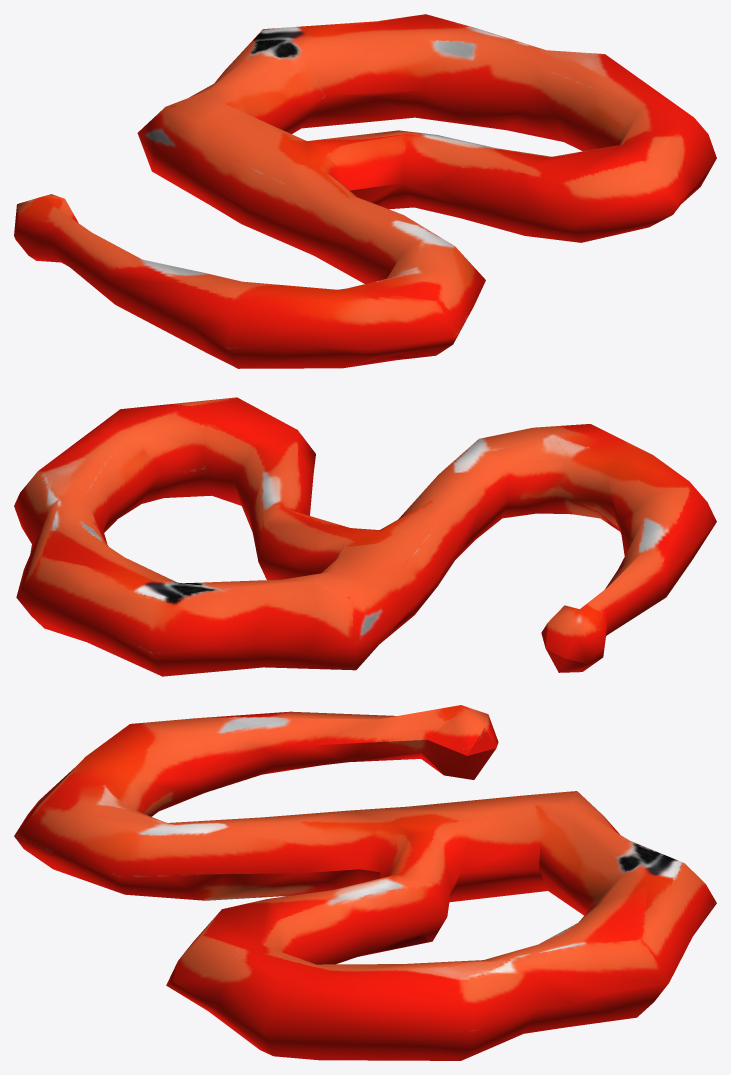
File: shoggoth-slime.glb
3 renders of one model, top to bottom at view 1: azimuth 30°, elevation 25°; view 2: azimuth 150°, elevation 25°; view 3: azimuth 270°, elevation 25°, orthographic. The views are drawn at different scales.
Parts seen in each view (by area): view 1: geometry_0.001; view 2: geometry_0.001; view 3: geometry_0.001.
Boxes of the visible parts, box(x1,y1,x2,y2) form: geometry_0.001: box(14, 14, 716, 368); geometry_0.001: box(14, 397, 716, 676); geometry_0.001: box(14, 705, 716, 1060).
Bounding box in the file's own units: 0.9996 × 0.1384 × 0.9659.
1 material, 1 textured.
